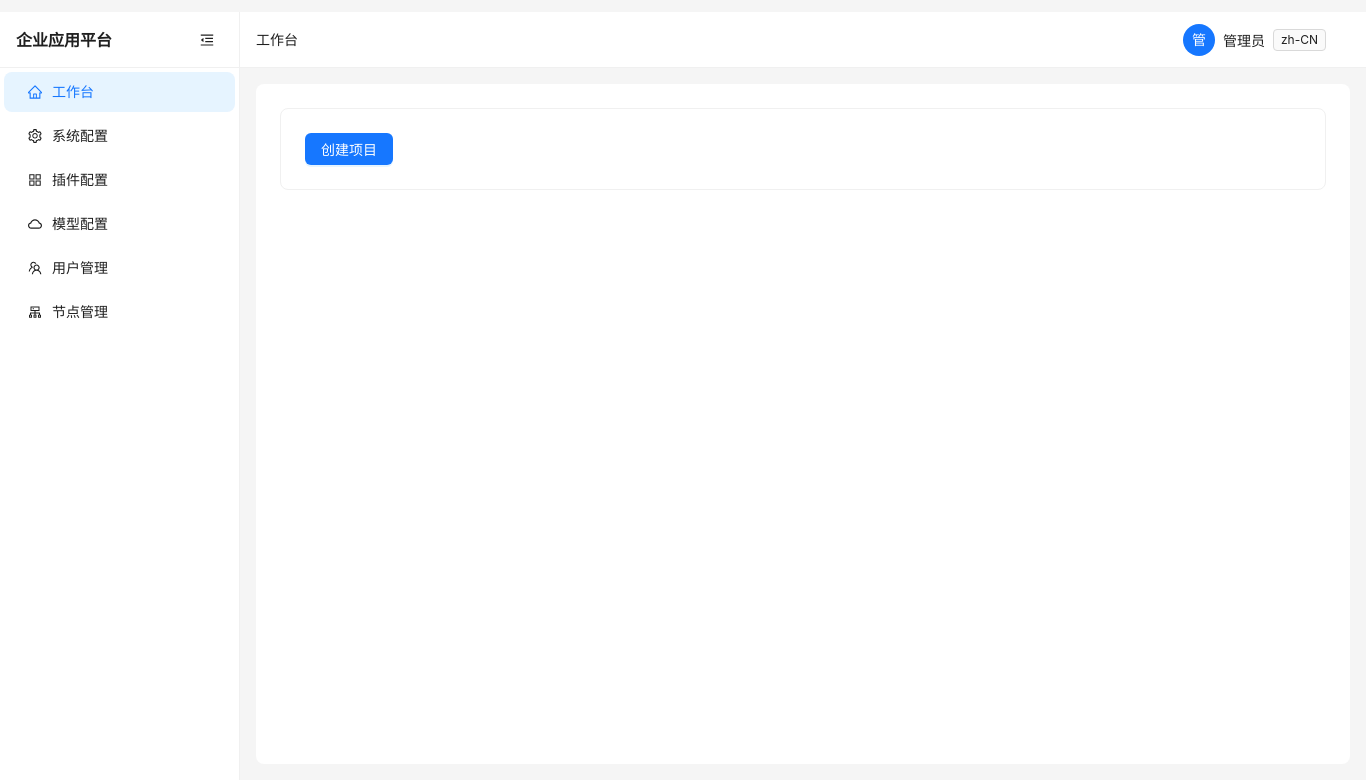
Test case: portal shell › opens account actions and collapses the navigation to icons
The width and height of the screenshot is (1366, 780).
Click the button with test id "platform/shell/account" at (1258,40), box [1167,12,1350,68]
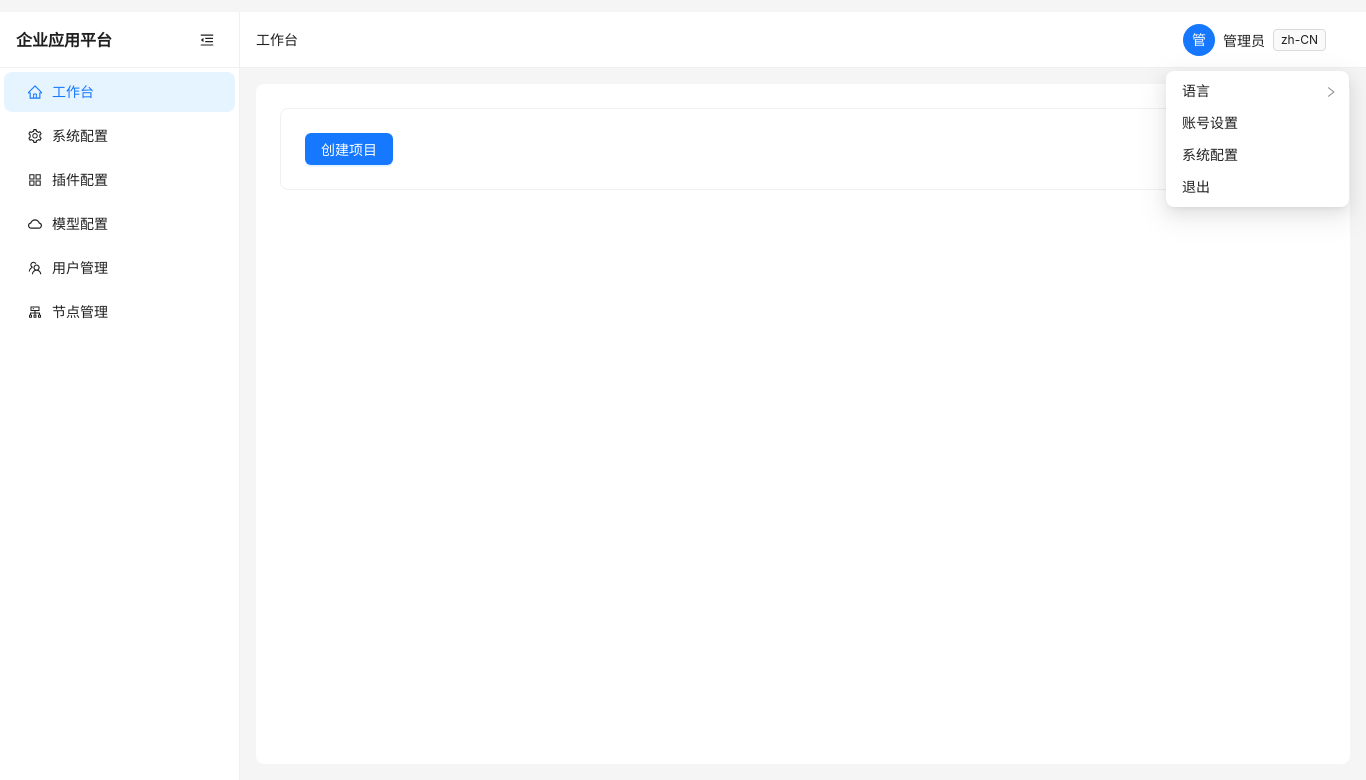
Check: the text with test id "platform/shell/account-settings" reads "账号设置", box [1182,114,1238,131]
Check: the text with test id "platform/shell/menu-system-config" reads "系统配置", box [1182,146,1238,163]
Check: the text with test id "platform/shell/logout" reads "退出", box [1182,178,1210,195]
Click the button with test id "platform/shell/nav-collapse" at (207,40), box [191,24,223,56]
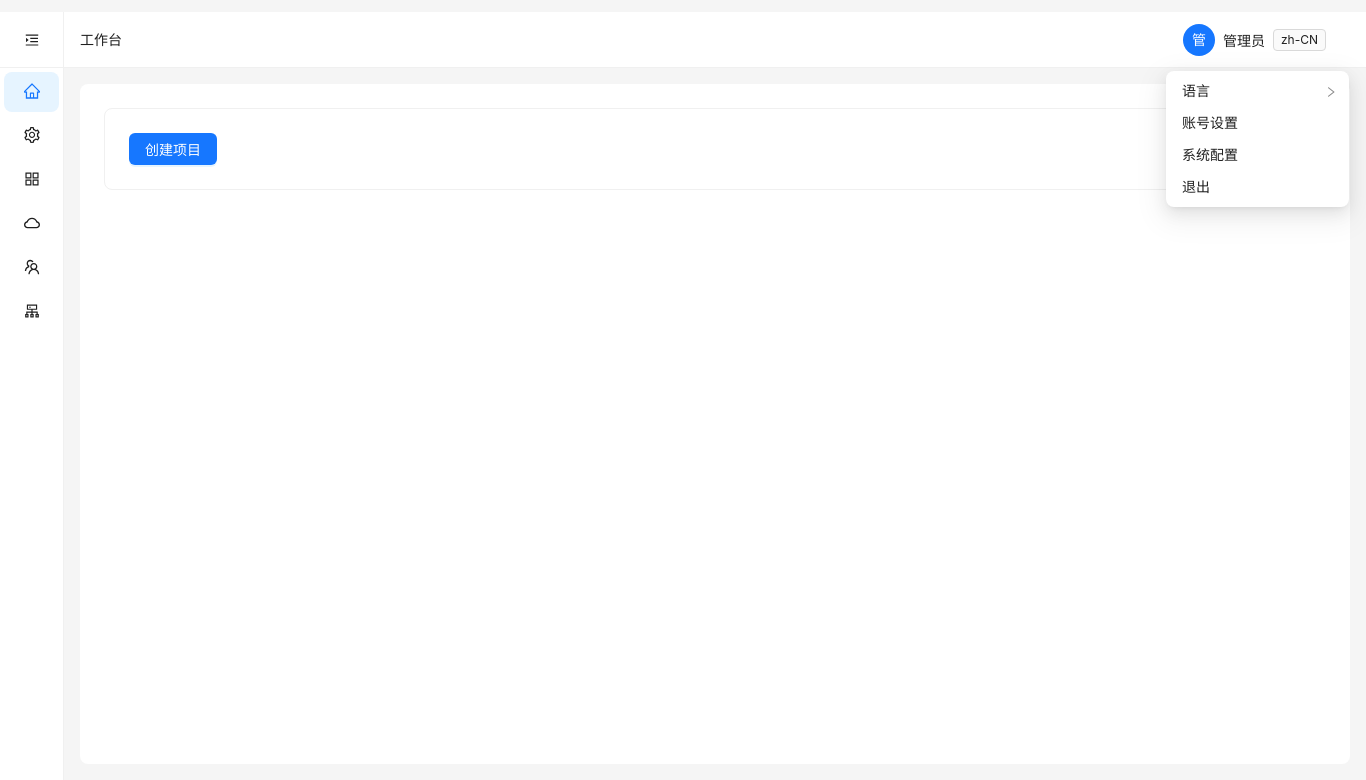
Check: the element with test id "platform/shell/sider" has class "ant-layout-sider-collapsed", box [0,12,64,779]
